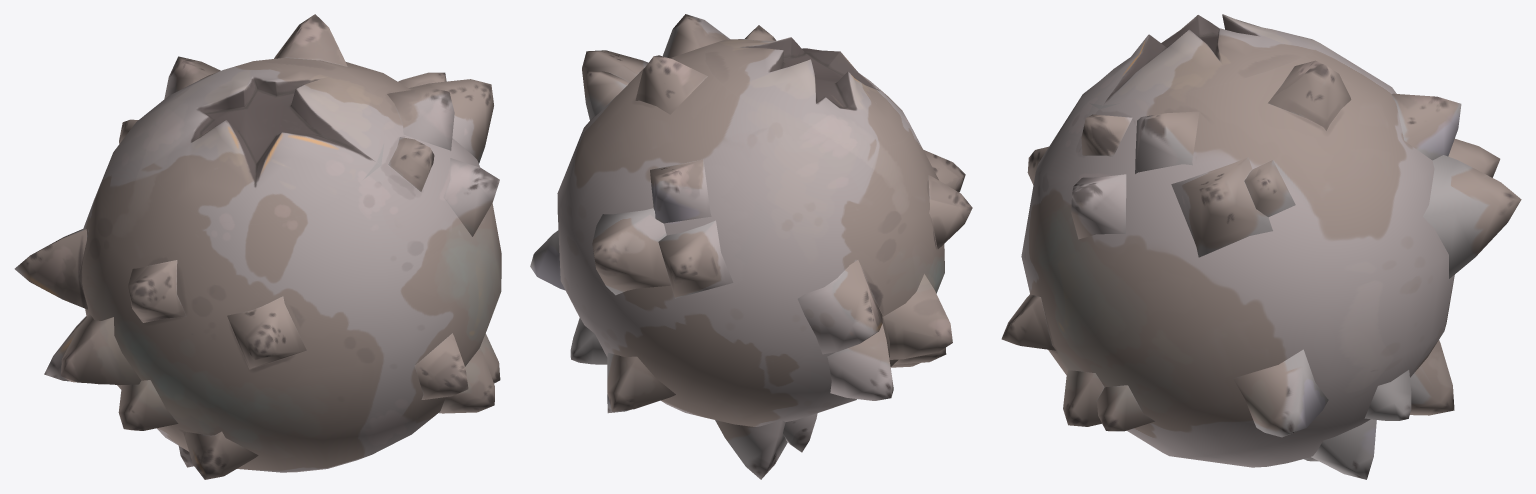
File: Puffball.fbx
3 views of the same model, side by side, from view 1: azimuth 30°, elevation 25°; view 2: azimuth 150°, elevation 25°; view 3: azimuth 270°, elevation 25° (orthographic). The views are drawn at different scales.
Parts seen in each view (by area): view 1: Puffball; view 2: Puffball; view 3: Puffball.
Boxes of the visible parts, x1,y1,x2,y2 form: Puffball: [14, 14, 501, 479]; Puffball: [530, 14, 972, 479]; Puffball: [1001, 14, 1521, 479].
Size of what is drawn, in the model's own units: 53.61 by 50.48 by 52.4.
1 material, 1 textured.
